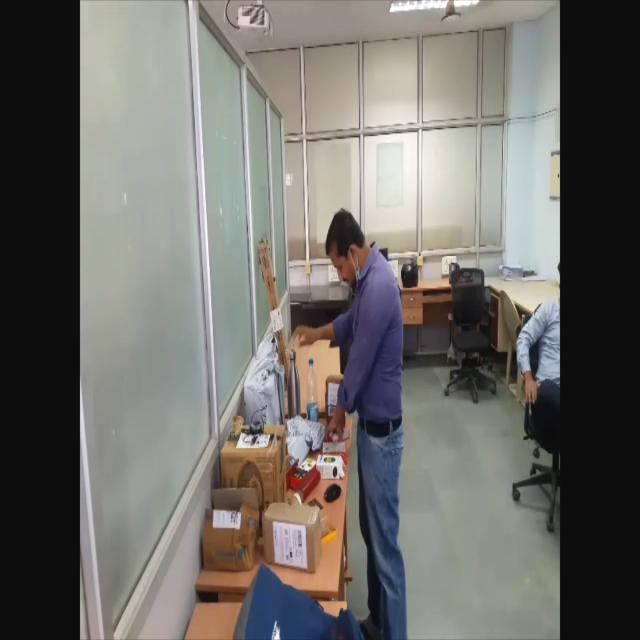normal: (285, 197, 409, 640)
